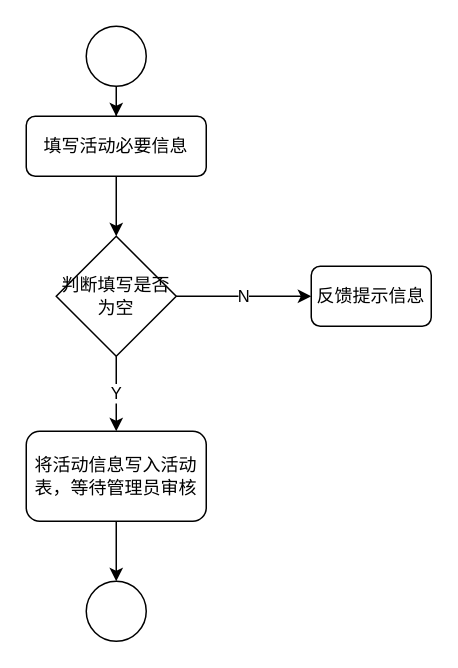
The diagram is 458 pixels wide and 668 high, and some of its shapes have lost their labels. The centre of each missing label's shape, as x and y in pixels:
开始: the point at 115,55
结束: the point at 115,610
